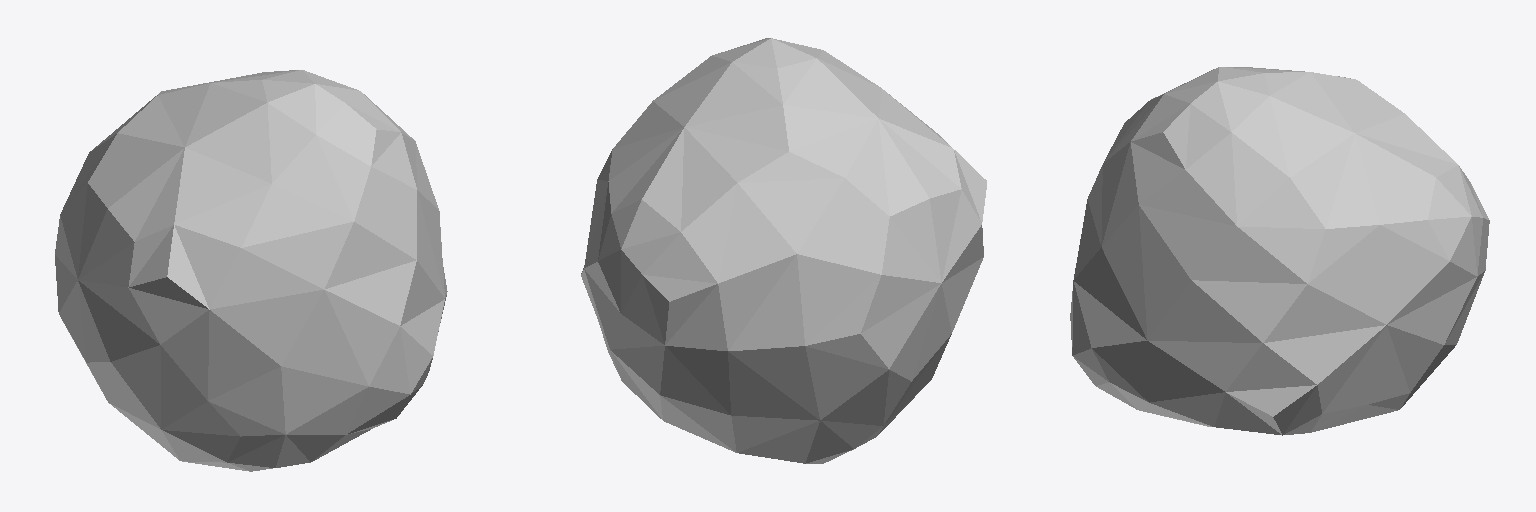
File: rock1.obj
3 views of the same model, side by side, from view 1: azimuth 30°, elevation 25°; view 2: azimuth 150°, elevation 25°; view 3: azimuth 270°, elevation 25° (orthographic).
Visible parts, largest first — view 1: F2:GeoDome2; view 2: F2:GeoDome2; view 3: F2:GeoDome2.
Part boxes in pixels (bbox=[...]): F2:GeoDome2: bbox=[55, 70, 447, 471]; F2:GeoDome2: bbox=[581, 38, 986, 463]; F2:GeoDome2: bbox=[1070, 67, 1489, 435].
Size of the model in its own units: 1.71 by 1.75 by 1.77.